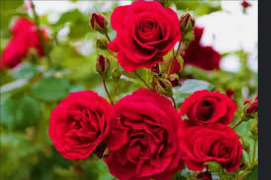RedRose: (103, 94, 180, 179), (111, 1, 177, 72), (50, 87, 107, 160), (182, 124, 246, 168), (182, 92, 235, 124)
